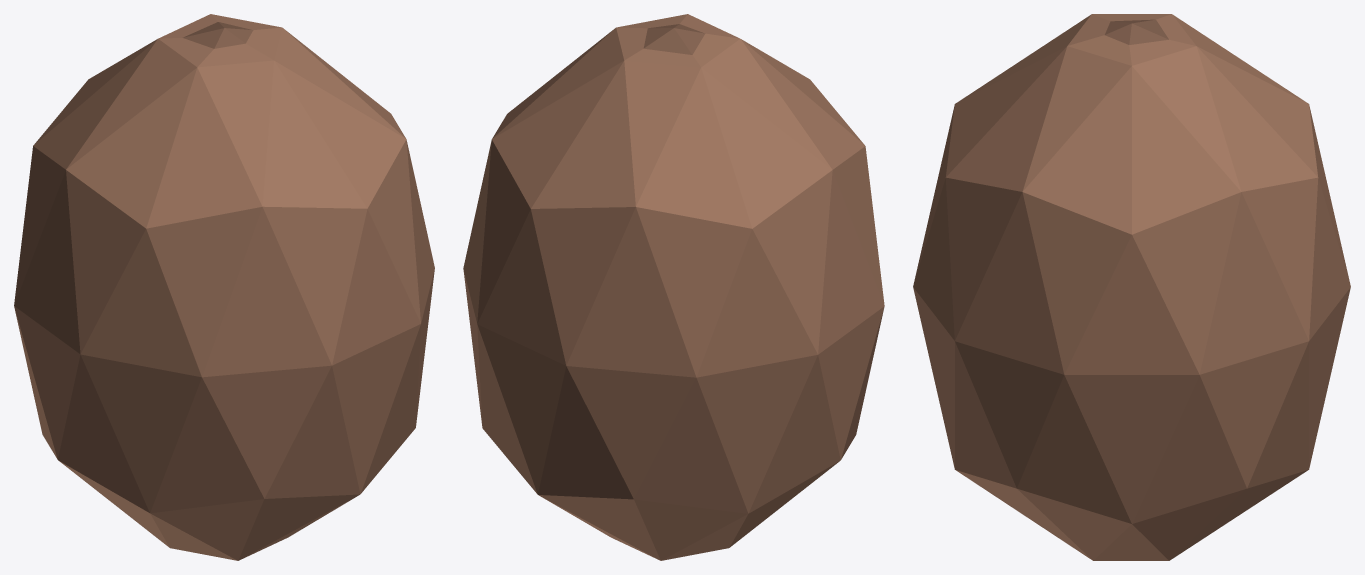
Rendered from Kiwi_01.fbx.
3 views of the same model, side by side, from view 1: azimuth 30°, elevation 25°; view 2: azimuth 150°, elevation 25°; view 3: azimuth 270°, elevation 25° (orthographic).
Visible parts, largest first — view 1: Kiwi_01; view 2: Kiwi_01; view 3: Kiwi_01.
Part boxes in pixels (x1,y1,x2,y2): Kiwi_01: (14,14,434,560); Kiwi_01: (463,14,884,560); Kiwi_01: (913,14,1350,560).
Bounding box in the file's own units: 6.57 × 9.13 × 6.91.
